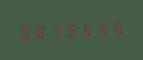five: (92, 18, 106, 38)
nine: (62, 20, 76, 39)
seven: (47, 21, 61, 40)
six: (77, 19, 91, 38), (107, 18, 121, 37)
zero: (17, 22, 31, 42), (32, 22, 46, 41)
